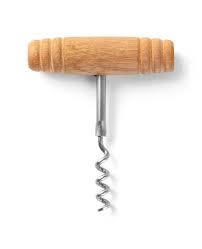bottleopener: (27, 37, 175, 212)
